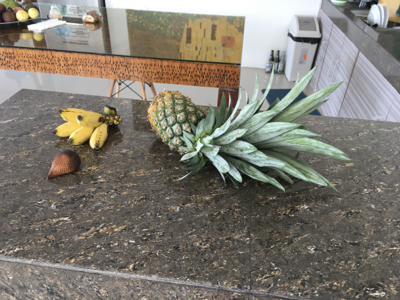banana: (53, 105, 121, 152)
pineapple: (147, 75, 347, 193)
snake fruit: (47, 152, 82, 179)
